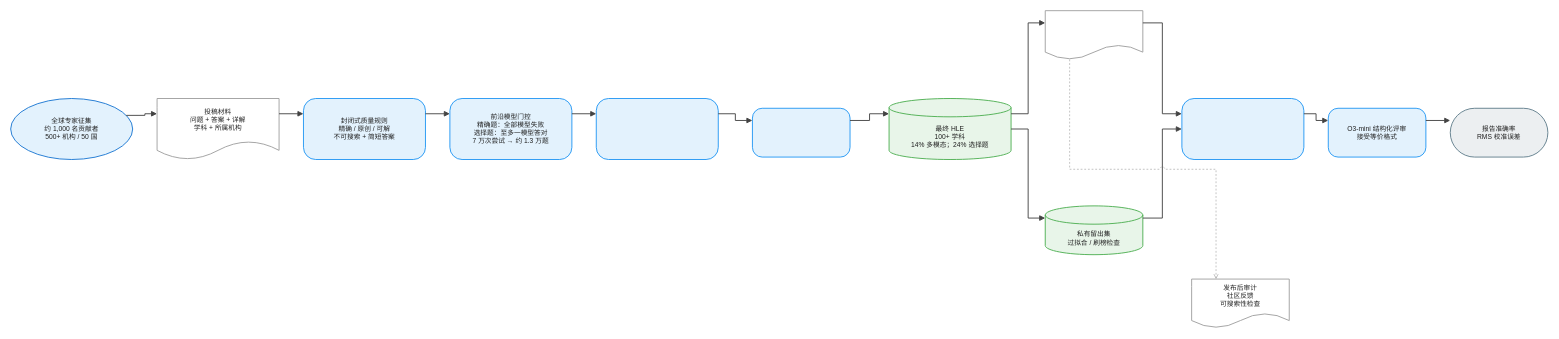
Image size: 1559x339. Some labels were removed from this diagram. Each missing label, with the centre of its shape:
专家复核第一轮 1–3 名研究生级评审 作者迭代修改: the point at 657,129
公开发布 2,500 道题: the point at 1094,35
复核第二轮 组织者 / 专家批准: the point at 801,132
标准评测提示 推理 + 最终答案 置信度 0–100%: the point at 1242,129
